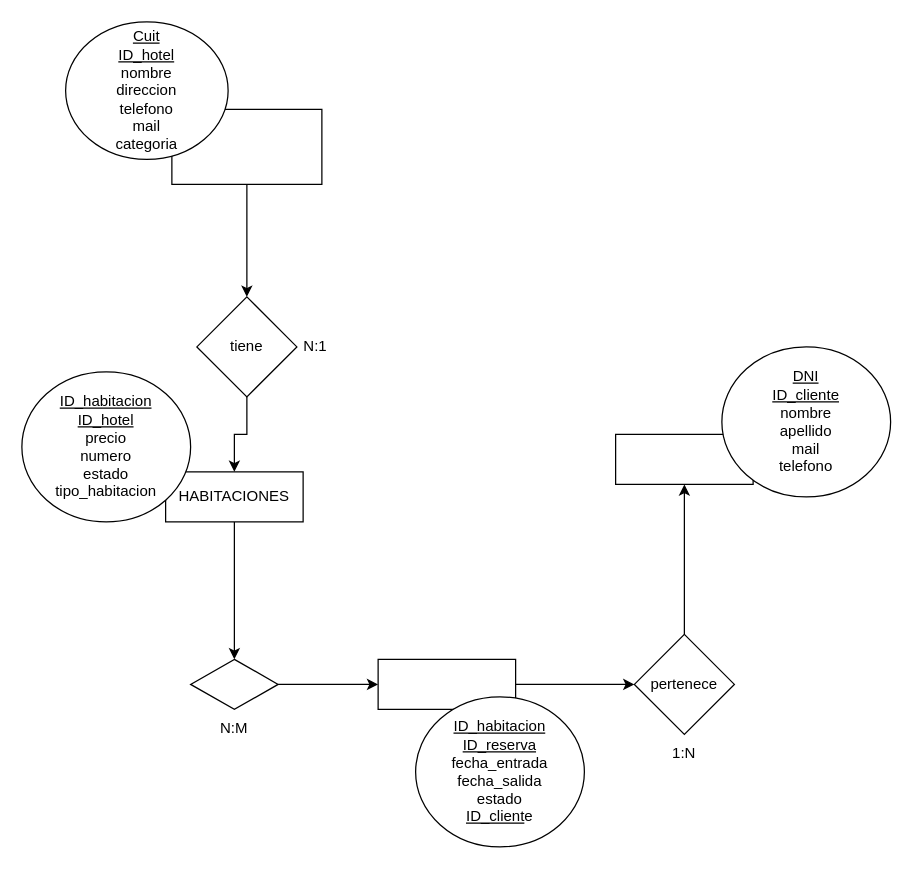
Image size: 913x869. Some labels were removed from this diagram. The shapes that lost their labels are listed below. From the top down, each one's centre as x and y in pixels, then its label:
At point (246, 146): "Hotel".
At point (683, 458): "CLIENTES".
At point (233, 683): "esta en".
At point (446, 683): "RESERVAS".
